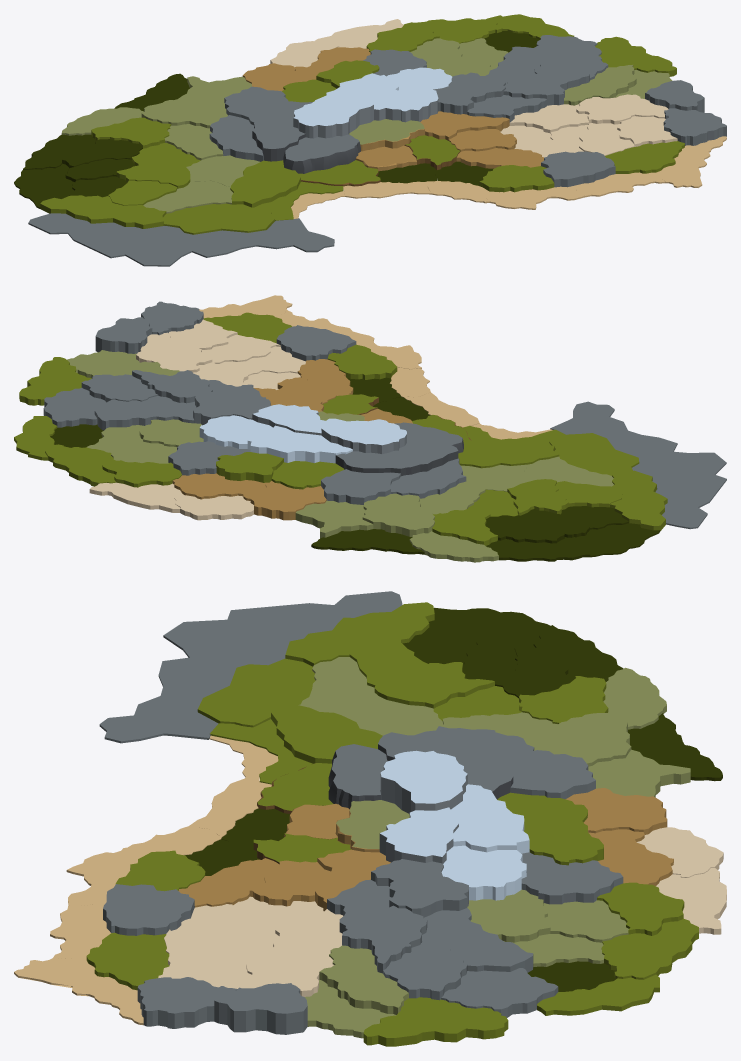
The model's file is LowPolySectors.fbx.
3 views of the same model, one above another, from view 1: azimuth 30°, elevation 25°; view 2: azimuth 150°, elevation 25°; view 3: azimuth 270°, elevation 25° (orthographic). The views are drawn at different scales.
Visible parts, largest first — view 1: Line079, Line032, Line039, Line051, Line049, Line036, Line040, Line065, Line038, Line070, Line084, Line089 (+66 smaller); view 2: Line079, Line040, Line057, Line032, Line051, Line039, Line098, Line070, Line049, Line056, Line065, Line073 (+64 smaller); view 3: Line079, Line032, Line111, Line051, Line039, Line093, Line098, Line049, Line065, Line084, Line112, Line057 (+66 smaller).
Boxes of the visible parts, <box> form: Line079: <box>28,213,334,266</box>; Line032: <box>163,203,274,234</box>; Line039: <box>293,96,373,138</box>; Line051: <box>40,195,166,228</box>; Line049: <box>230,160,300,207</box>; Line036: <box>283,134,360,173</box>; Line040: <box>252,101,312,161</box>; Line065: <box>541,151,615,187</box>; Line038: <box>366,86,438,122</box>; Line070: <box>141,95,227,128</box>; Line084: <box>433,72,505,114</box>; Line089: <box>576,94,668,124</box>; Line079: <box>550,401,726,529</box>; Line040: <box>335,441,458,476</box>; Line057: <box>247,425,352,463</box>; Line032: <box>549,433,639,475</box>; Line051: <box>610,470,667,530</box>; Line039: <box>321,418,406,453</box>; Line098: <box>94,395,196,430</box>; Line070: <box>362,493,434,536</box>; Line049: <box>458,438,559,468</box>; Line056: <box>321,469,400,504</box>; Line065: <box>276,325,356,361</box>; Line073: <box>557,523,660,557</box>; Line079: <box>99,591,402,743</box>; Line032: <box>197,658,315,727</box>; Line111: <box>363,997,508,1046</box>; Line051: <box>285,602,434,666</box>; Line039: <box>380,750,467,813</box>; Line093: <box>214,983,307,1034</box>; Line098: <box>422,908,533,972</box>; Line049: <box>271,704,382,763</box>; Line065: <box>103,884,194,935</box>; Line084: <box>371,859,468,917</box>; Line112: <box>601,918,698,979</box>; Line057: <box>451,784,529,853</box>.
Bounding box in the file's own units: 11968 × 488 × 7952.
